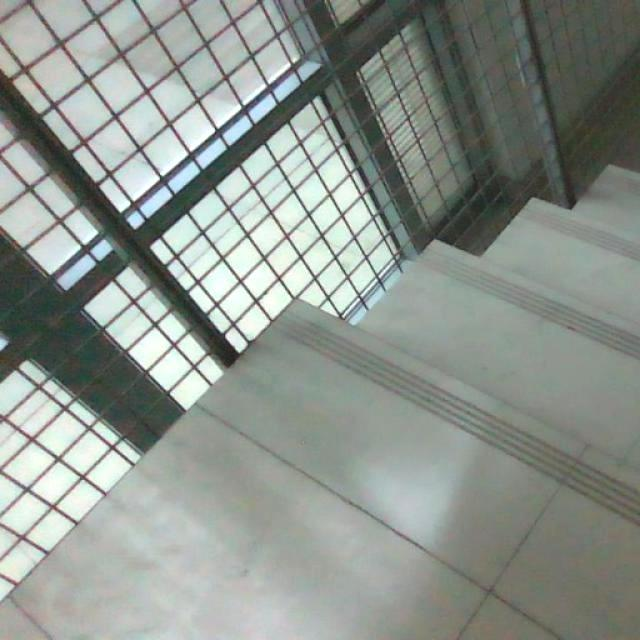stair: (276, 188, 640, 494)
